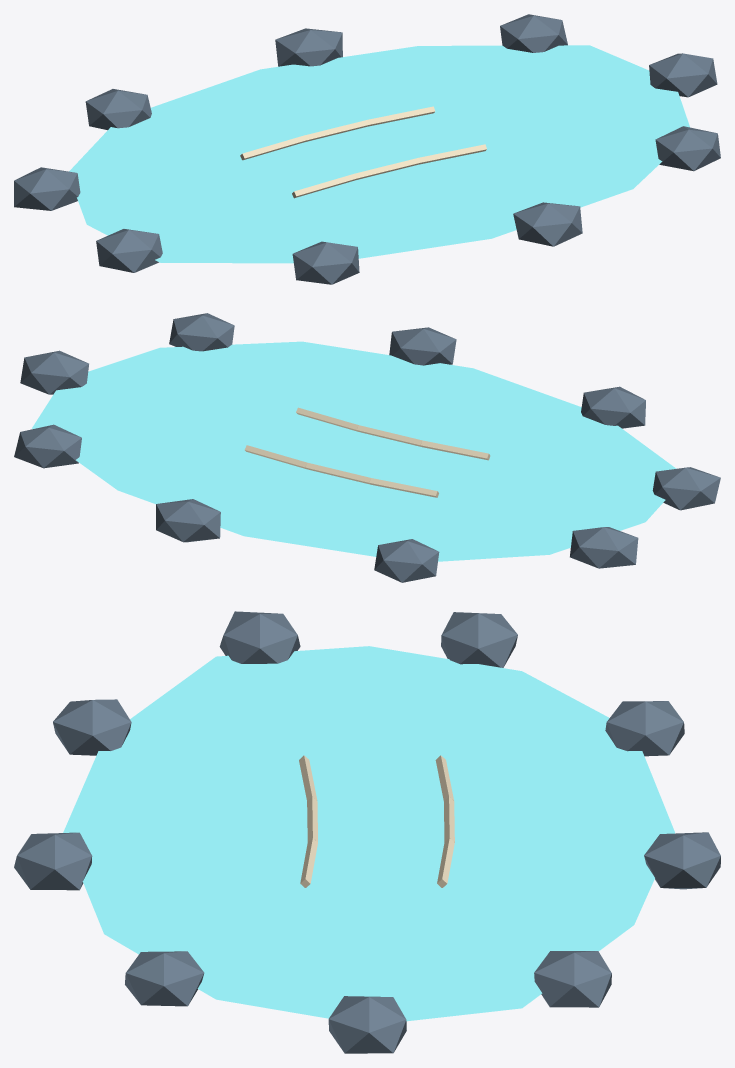
The model's file is enfeite_lago.glb.
3 renders of one model, top to bottom at view 1: azimuth 30°, elevation 25°; view 2: azimuth 150°, elevation 25°; view 3: azimuth 270°, elevation 25°, orthographic. The views are drawn at different scales.
Parts seen in each view (by area): view 1: pedreira_enfeite_lago; view 2: pedreira_enfeite_lago; view 3: pedreira_enfeite_lago.
Part boxes in pixels (x1=…): pedreira_enfeite_lago: x1=14, y1=14, x2=720, y2=284; pedreira_enfeite_lago: x1=14, y1=313, x2=720, y2=582; pedreira_enfeite_lago: x1=14, y1=611, x2=720, y2=1053.
Size of the model in its own units: 1.54 by 0.0951 by 1.09.
